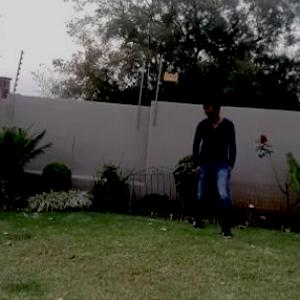follow: (195, 90, 243, 241)
